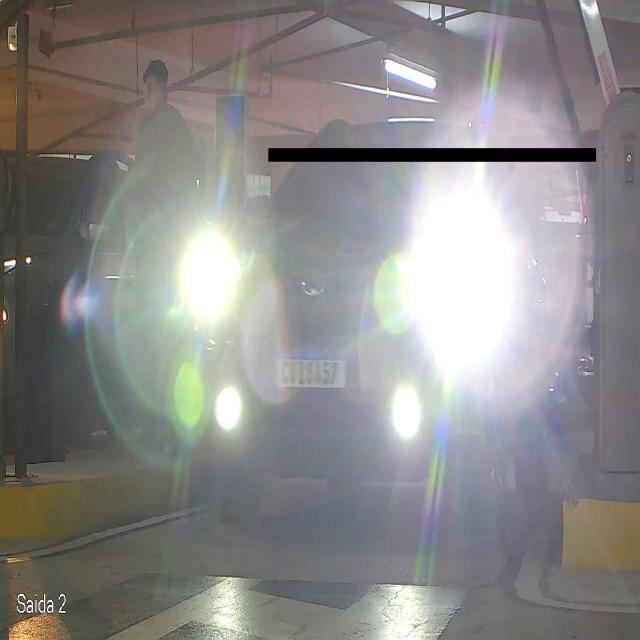mercosul_plate: (275, 350, 347, 390)
